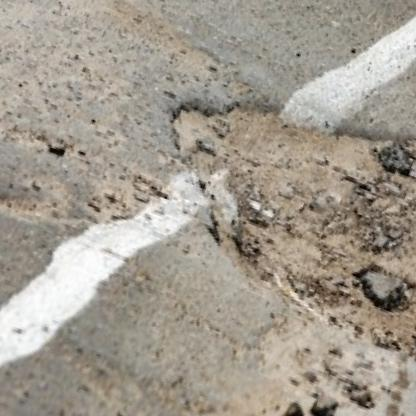pothole: (111, 51, 416, 391), (0, 108, 54, 360)
